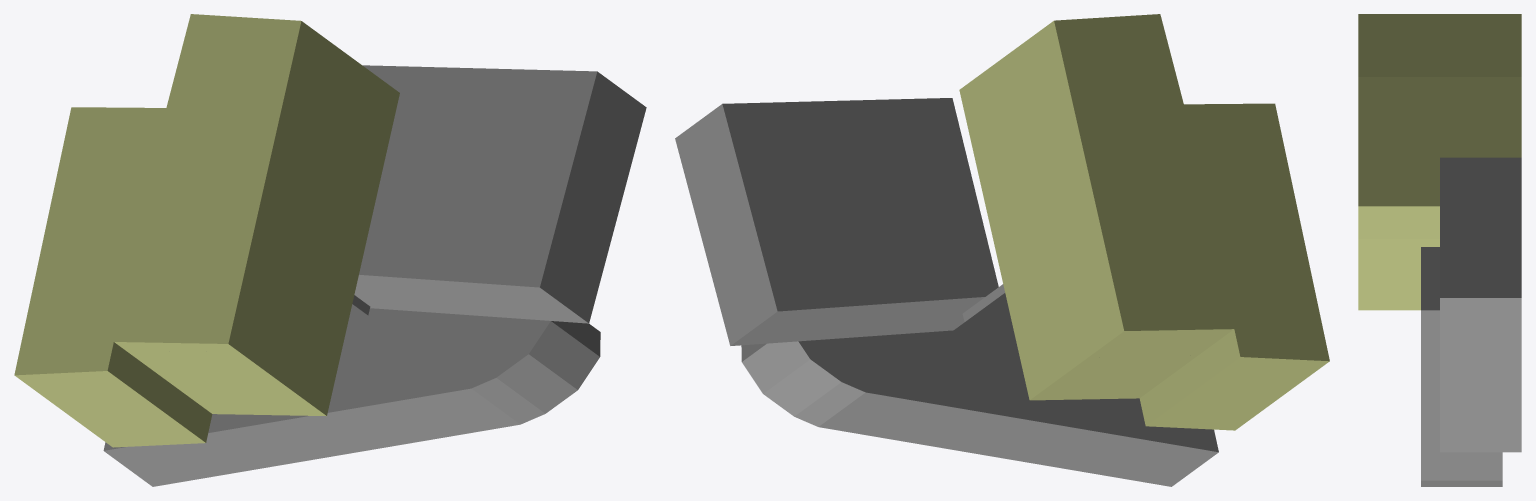
3 views of the same model, side by side, from view 1: azimuth 30°, elevation 25°; view 2: azimuth 150°, elevation 25°; view 3: azimuth 270°, elevation 25° (orthographic). The views are drawn at different scales.
Visible parts, largest first — view 1: 0_1_0_0_1_3_1_1_2_0; view 2: 0_1_0_0_1_3_1_1_2_0; view 3: 0_1_0_0_1_3_1_1_2_0.
Boxes of the visible parts, bbox=[...] form: 0_1_0_0_1_3_1_1_2_0: bbox=[14, 14, 646, 486]; 0_1_0_0_1_3_1_1_2_0: bbox=[675, 14, 1329, 486]; 0_1_0_0_1_3_1_1_2_0: bbox=[1358, 14, 1521, 486].
Bounding box in the file's own units: 20.49 × 14.5 × 6.
